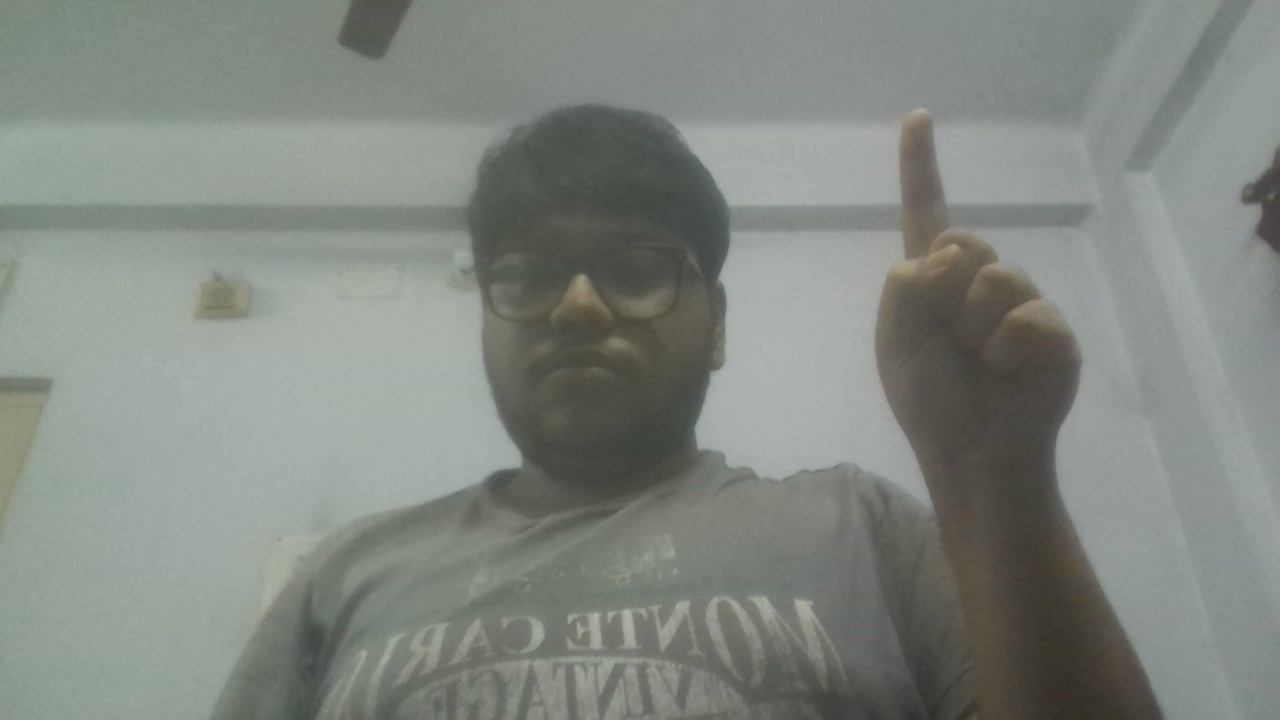Gesture1: (862, 100, 1095, 466)
